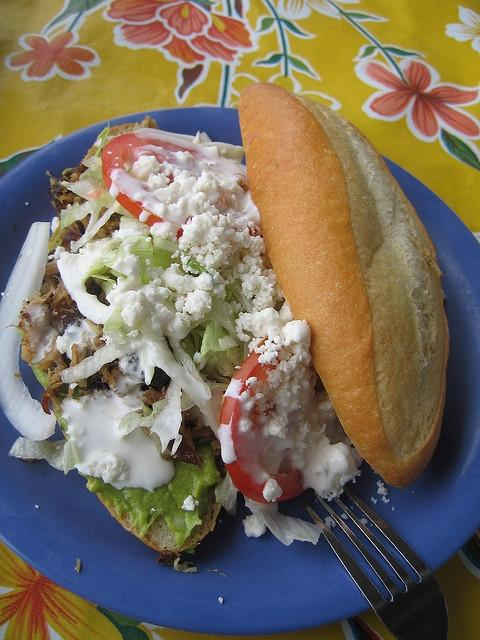lettuce: (78, 443, 221, 548), (244, 495, 322, 546), (59, 178, 138, 220), (32, 362, 70, 440), (189, 297, 244, 350), (130, 238, 154, 286), (200, 320, 228, 360), (104, 308, 132, 344), (153, 244, 186, 274), (60, 200, 92, 230), (92, 277, 115, 297), (82, 156, 102, 172), (218, 335, 238, 350), (226, 348, 242, 366)
onion: (1, 222, 57, 442), (56, 250, 116, 324), (70, 200, 134, 253), (58, 344, 130, 384), (135, 132, 219, 157)
tomato: (218, 339, 305, 505), (100, 133, 197, 228)
